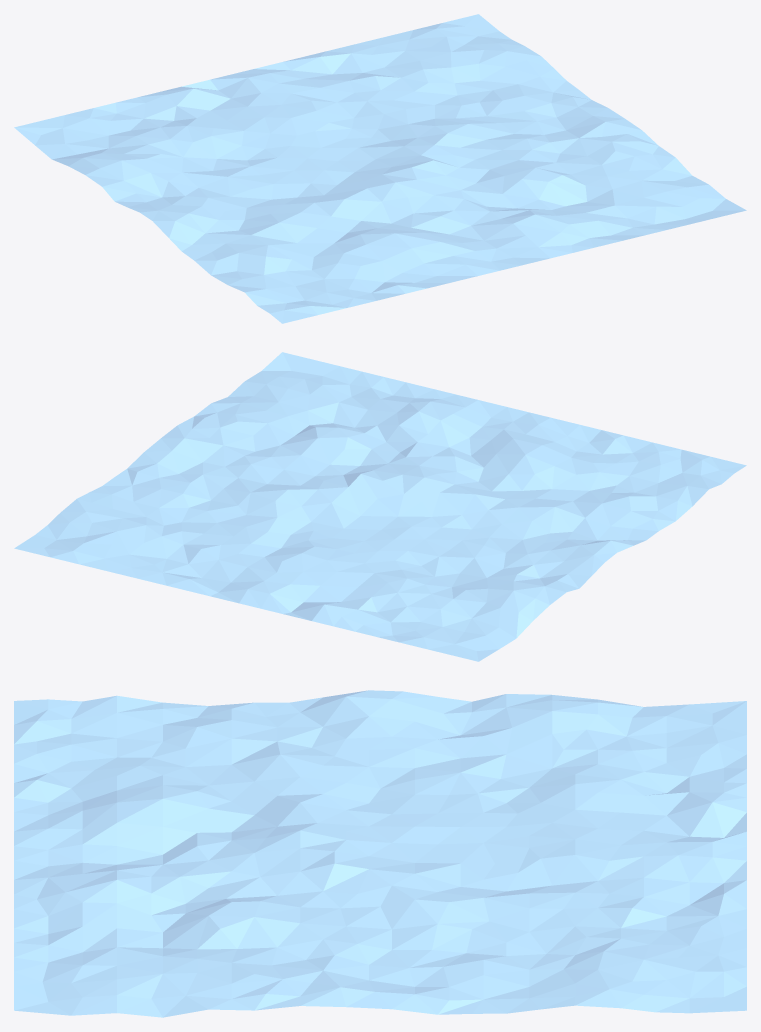
The model's file is Water.fbx.
3 views of the same model, one above another, from view 1: azimuth 30°, elevation 25°; view 2: azimuth 150°, elevation 25°; view 3: azimuth 270°, elevation 25° (orthographic). The views are drawn at different scales.
Visible parts, largest first — view 1: Plane; view 2: Plane; view 3: Plane.
Part boxes in pixels (x1=…): Plane: x1=14, y1=14, x2=746, y2=323; Plane: x1=14, y1=352, x2=746, y2=661; Plane: x1=14, y1=690, x2=746, y2=1017.
Bounding box in the file's own units: 3600 × 131 × 3600.
